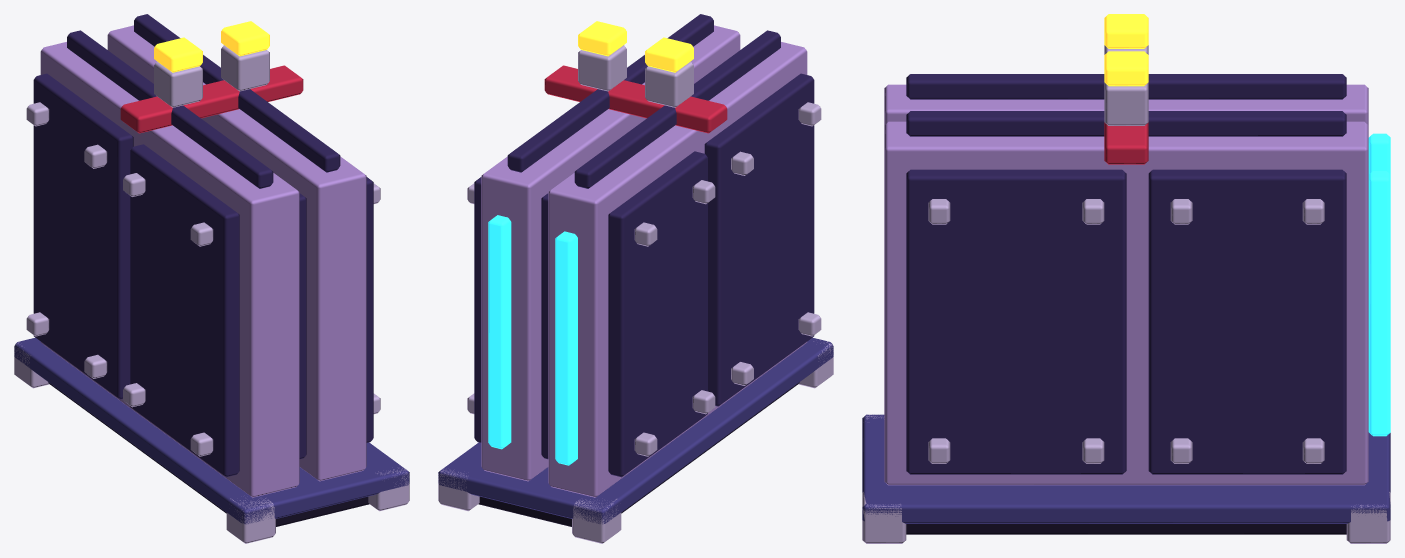
File: battery.md.glb
3 renders of one model, left to right at view 1: azimuth 30°, elevation 25°; view 2: azimuth 150°, elevation 25°; view 3: azimuth 270°, elevation 25°, orthographic. The views are drawn at different scales.
Visible parts, largest first — view 1: battery.md; view 2: battery.md; view 3: battery.md.
Part boxes in pixels (bbox=[...]): battery.md: bbox=[14, 14, 409, 543]; battery.md: bbox=[438, 14, 833, 543]; battery.md: bbox=[862, 14, 1390, 543].
Size of the model in its own units: 0.6875 by 1.44 by 1.5.
